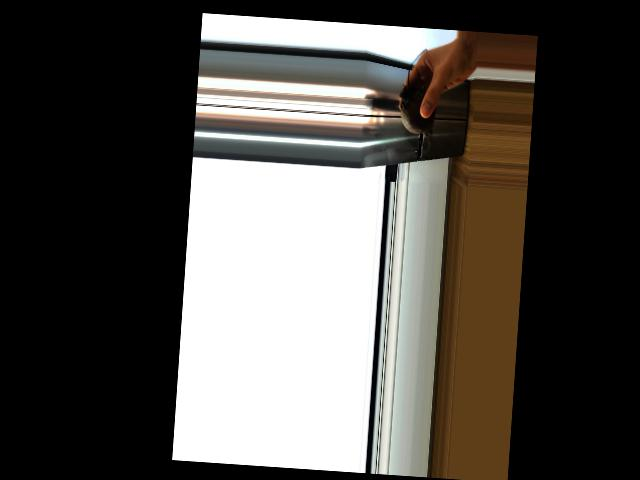beet: (397, 48, 439, 143)
